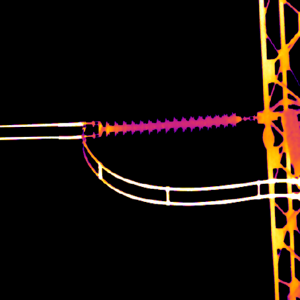insulator: (97, 111, 243, 138)
